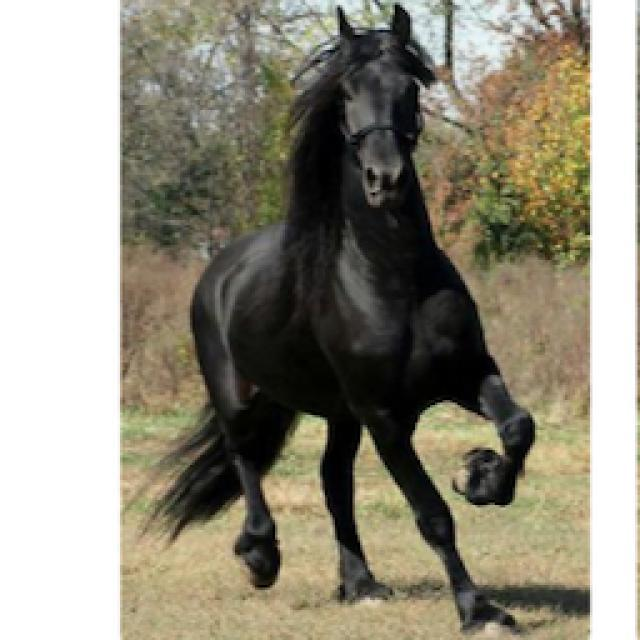Horse: (135, 0, 545, 638)
